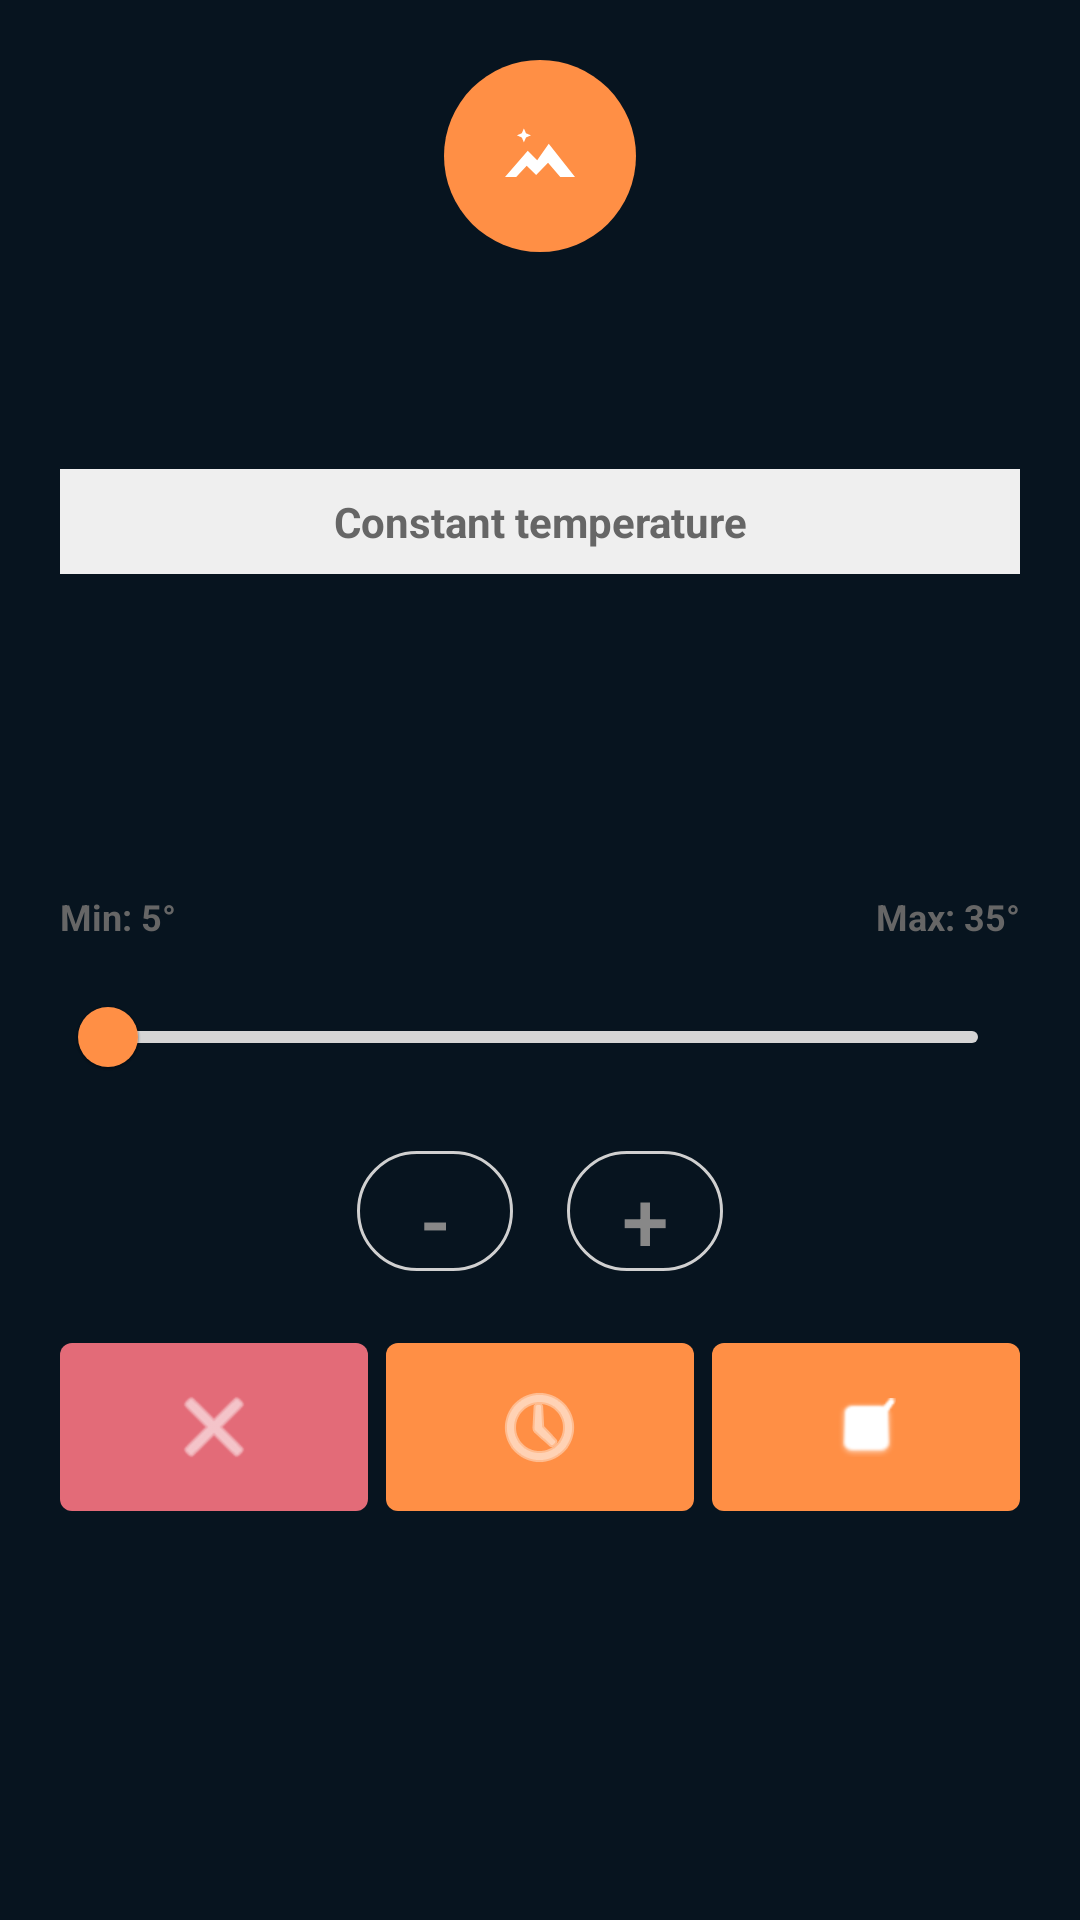

Point at icon controls on the screen. Image size 1080×1920, points as (x=x, y=y).
Close zone panel: (x=214, y=1427)
Open chronogram: (x=540, y=1427)
